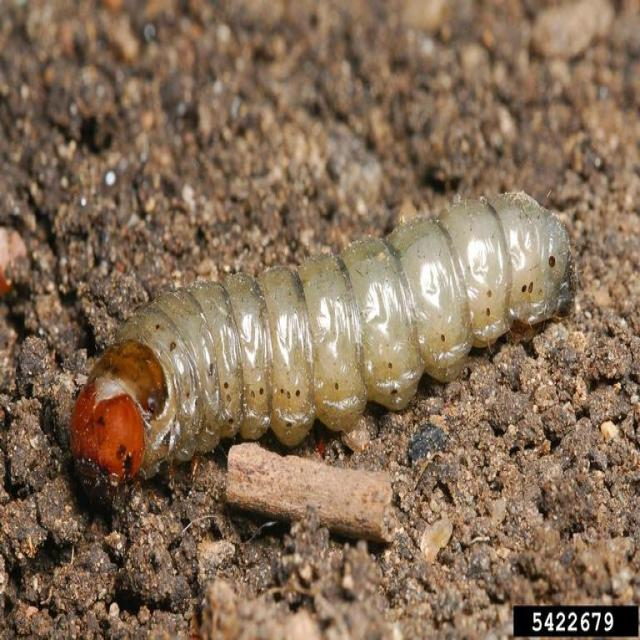Cutworm: (64, 189, 573, 478)
